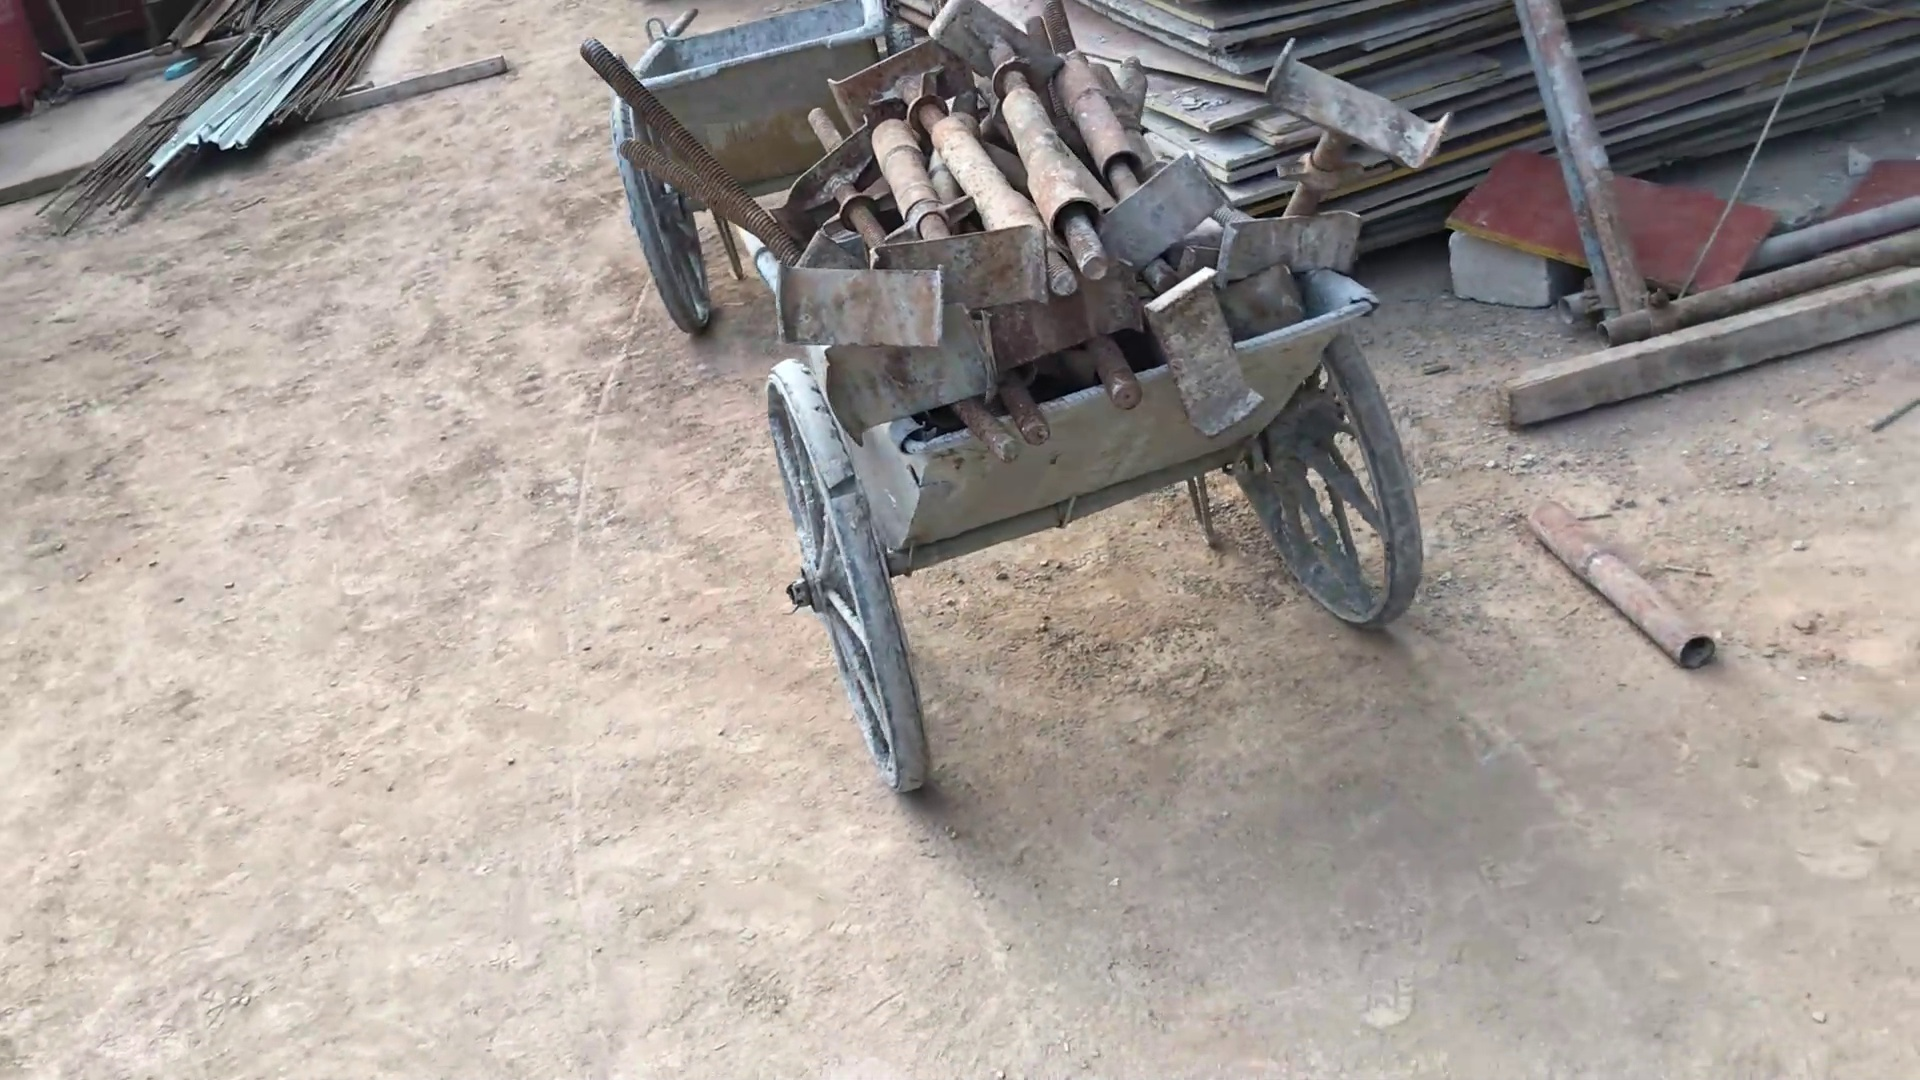handcart: (680, 116, 1524, 808), (572, 1, 986, 338)
